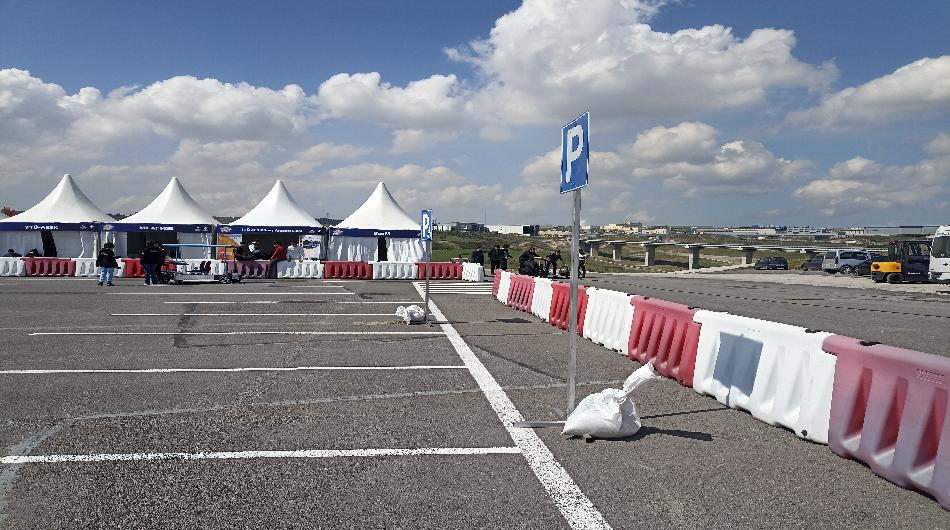engelli_park: (414, 207, 439, 247)
park: (557, 111, 598, 197)
